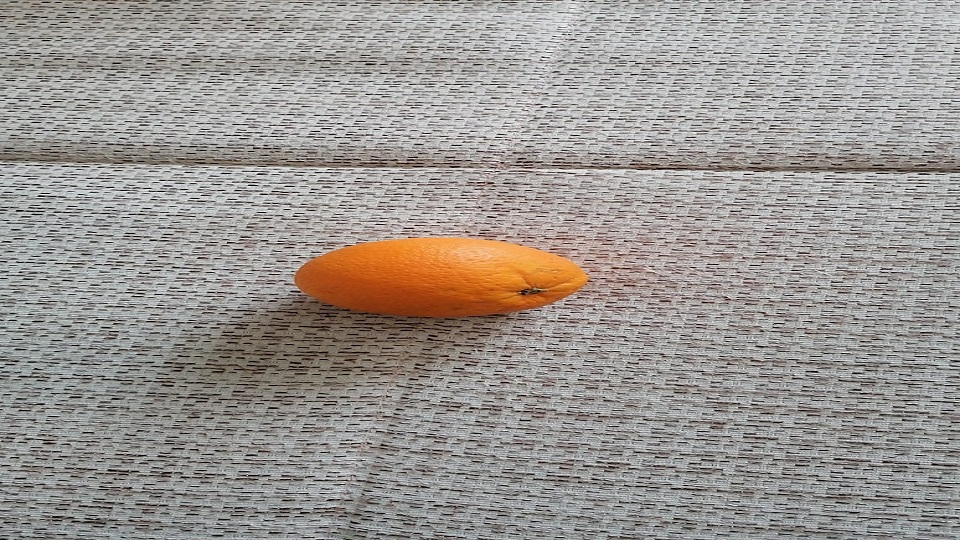portakal: (293, 236, 588, 319)
